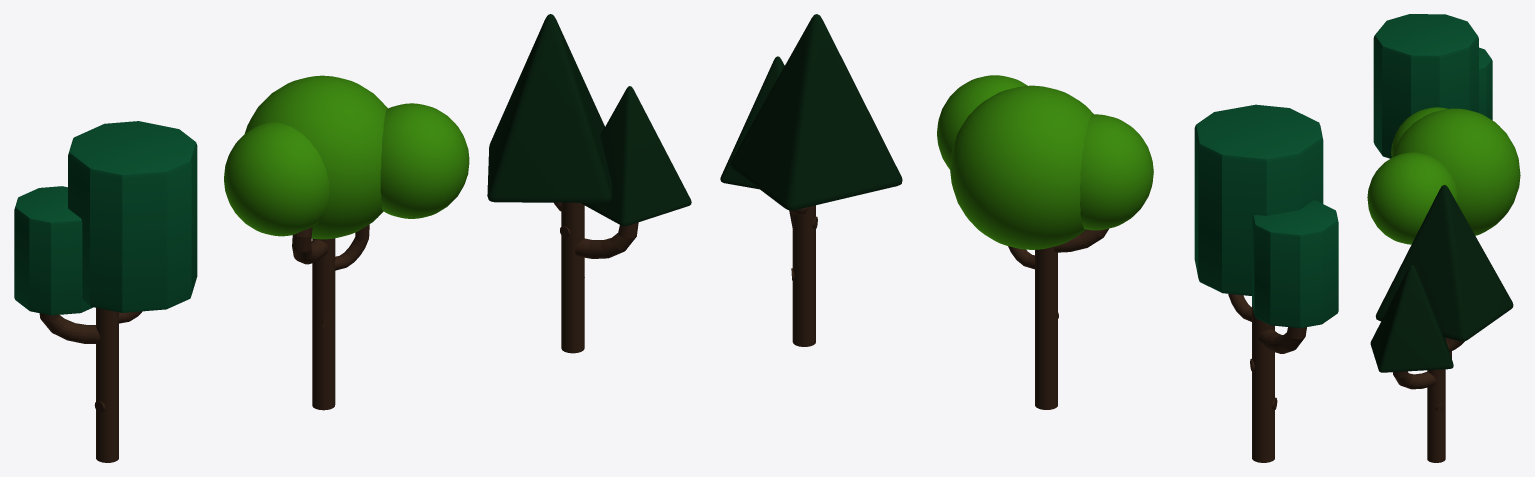
Rendered from Árboles Prueba.fbx.
3 renders of one model, left to right at view 1: azimuth 30°, elevation 25°; view 2: azimuth 150°, elevation 25°; view 3: azimuth 270°, elevation 25°, orthographic. The views are drawn at different scales.
Parts seen in each view (by area): view 1: Árbol 2, Árbol 1, Árbol 3; view 2: Árbol 2, Árbol 1, Árbol 3; view 3: Árbol 3, Árbol 2, Árbol 1.
Boxes of the visible parts, left/top/right/bottom form: Árbol 2: left=224, top=75, right=469, bottom=410; Árbol 1: left=14, top=121, right=197, bottom=462; Árbol 3: left=487, top=14, right=691, bottom=353; Árbol 2: left=937, top=75, right=1153, bottom=409; Árbol 1: left=1194, top=104, right=1338, bottom=462; Árbol 3: left=720, top=14, right=902, bottom=346; Árbol 3: left=1370, top=185, right=1513, bottom=462; Árbol 2: left=1367, top=107, right=1520, bottom=358; Árbol 1: left=1373, top=14, right=1492, bottom=158.
Bounding box in the file's own units: 483 × 248 × 129.
